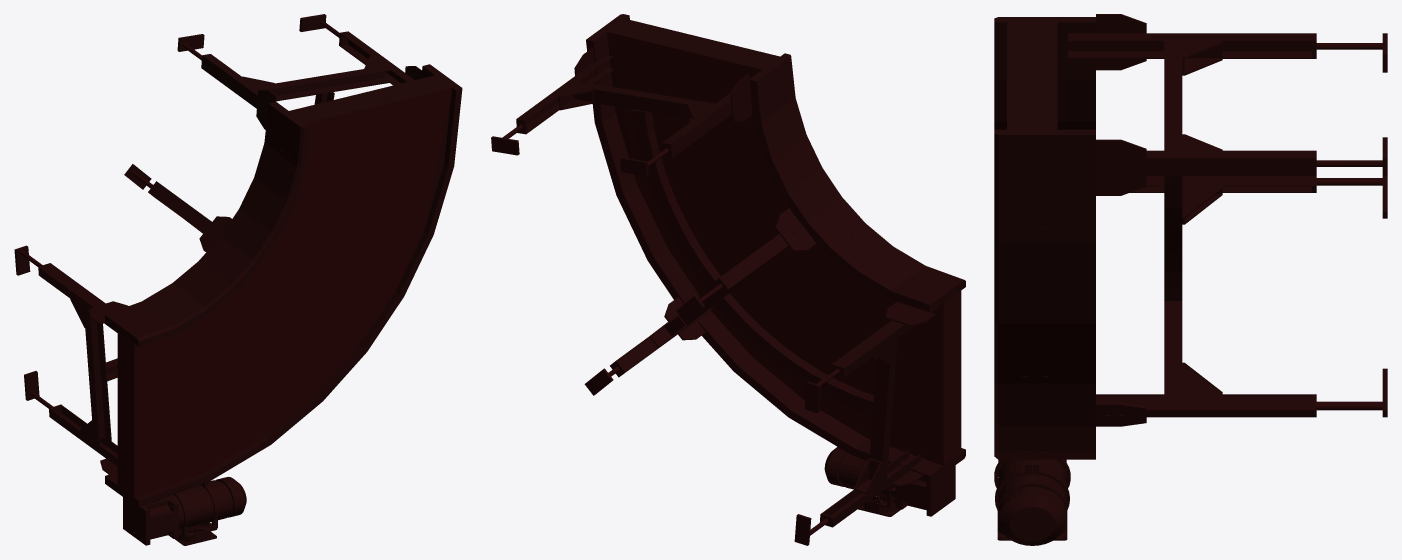
File: left_1m.obj
3 renders of one model, left to right at view 1: azimuth 30°, elevation 25°; view 2: azimuth 150°, elevation 25°; view 3: azimuth 270°, elevation 25°, orthographic. The views are drawn at different scales.
Visible parts, largest first — view 1: Left_1m; view 2: Left_1m; view 3: Left_1m.
Part boxes in pixels (x1=…): Left_1m: x1=14, y1=14, x2=462, y2=545; Left_1m: x1=491, y1=14, x2=965, y2=545; Left_1m: x1=994, y1=14, x2=1387, y2=545.
Size of the model in its own units: 1.13 by 1.29 by 0.7753.
